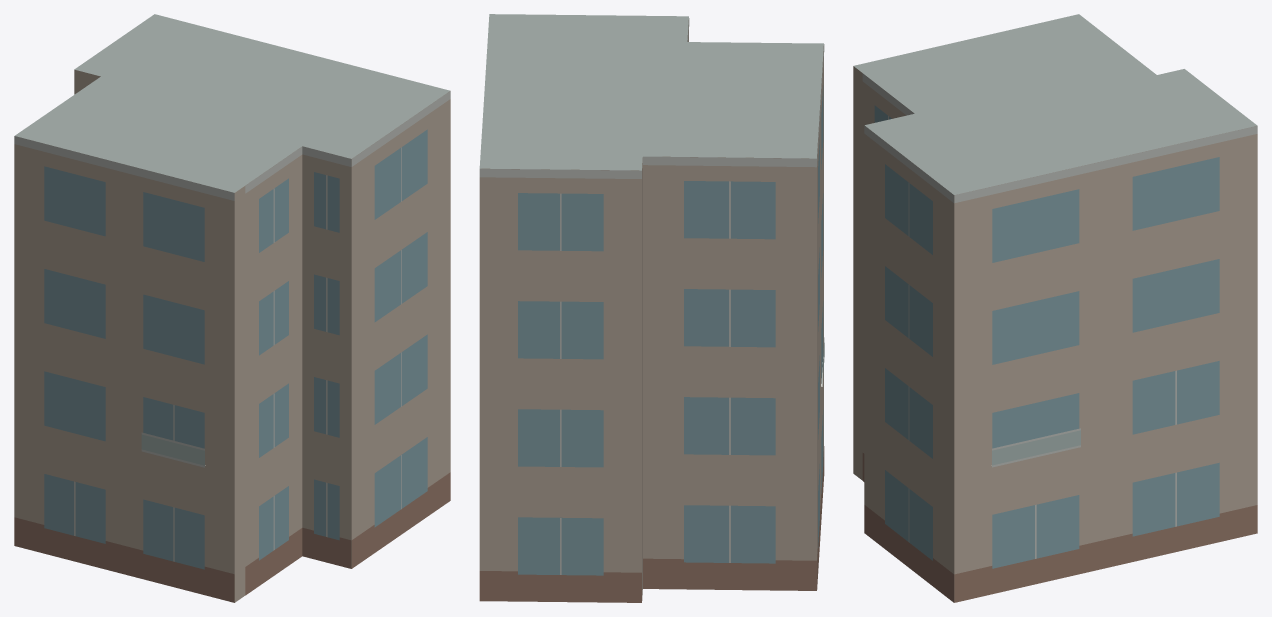
The model's file is residential-bb4a8b14-588d-46e6-84b6-dbc22a18ebbe.glb.
3 renders of one model, left to right at view 1: azimuth 30°, elevation 25°; view 2: azimuth 150°, elevation 25°; view 3: azimuth 270°, elevation 25°, orthographic. The views are drawn at different scales.
Parts seen in each view (by area): view 1: residential-bb4a8b14-588d-46e6-84b6-dbc22a18ebbe.tmp; view 2: residential-bb4a8b14-588d-46e6-84b6-dbc22a18ebbe.tmp; view 3: residential-bb4a8b14-588d-46e6-84b6-dbc22a18ebbe.tmp.
Part boxes in pixels (x1=…): residential-bb4a8b14-588d-46e6-84b6-dbc22a18ebbe.tmp: x1=14, y1=14, x2=450, y2=602; residential-bb4a8b14-588d-46e6-84b6-dbc22a18ebbe.tmp: x1=479, y1=14, x2=824, y2=602; residential-bb4a8b14-588d-46e6-84b6-dbc22a18ebbe.tmp: x1=853, y1=14, x2=1257, y2=602.
Size of the model in its own units: 11.64 by 12.2 by 10.97.
